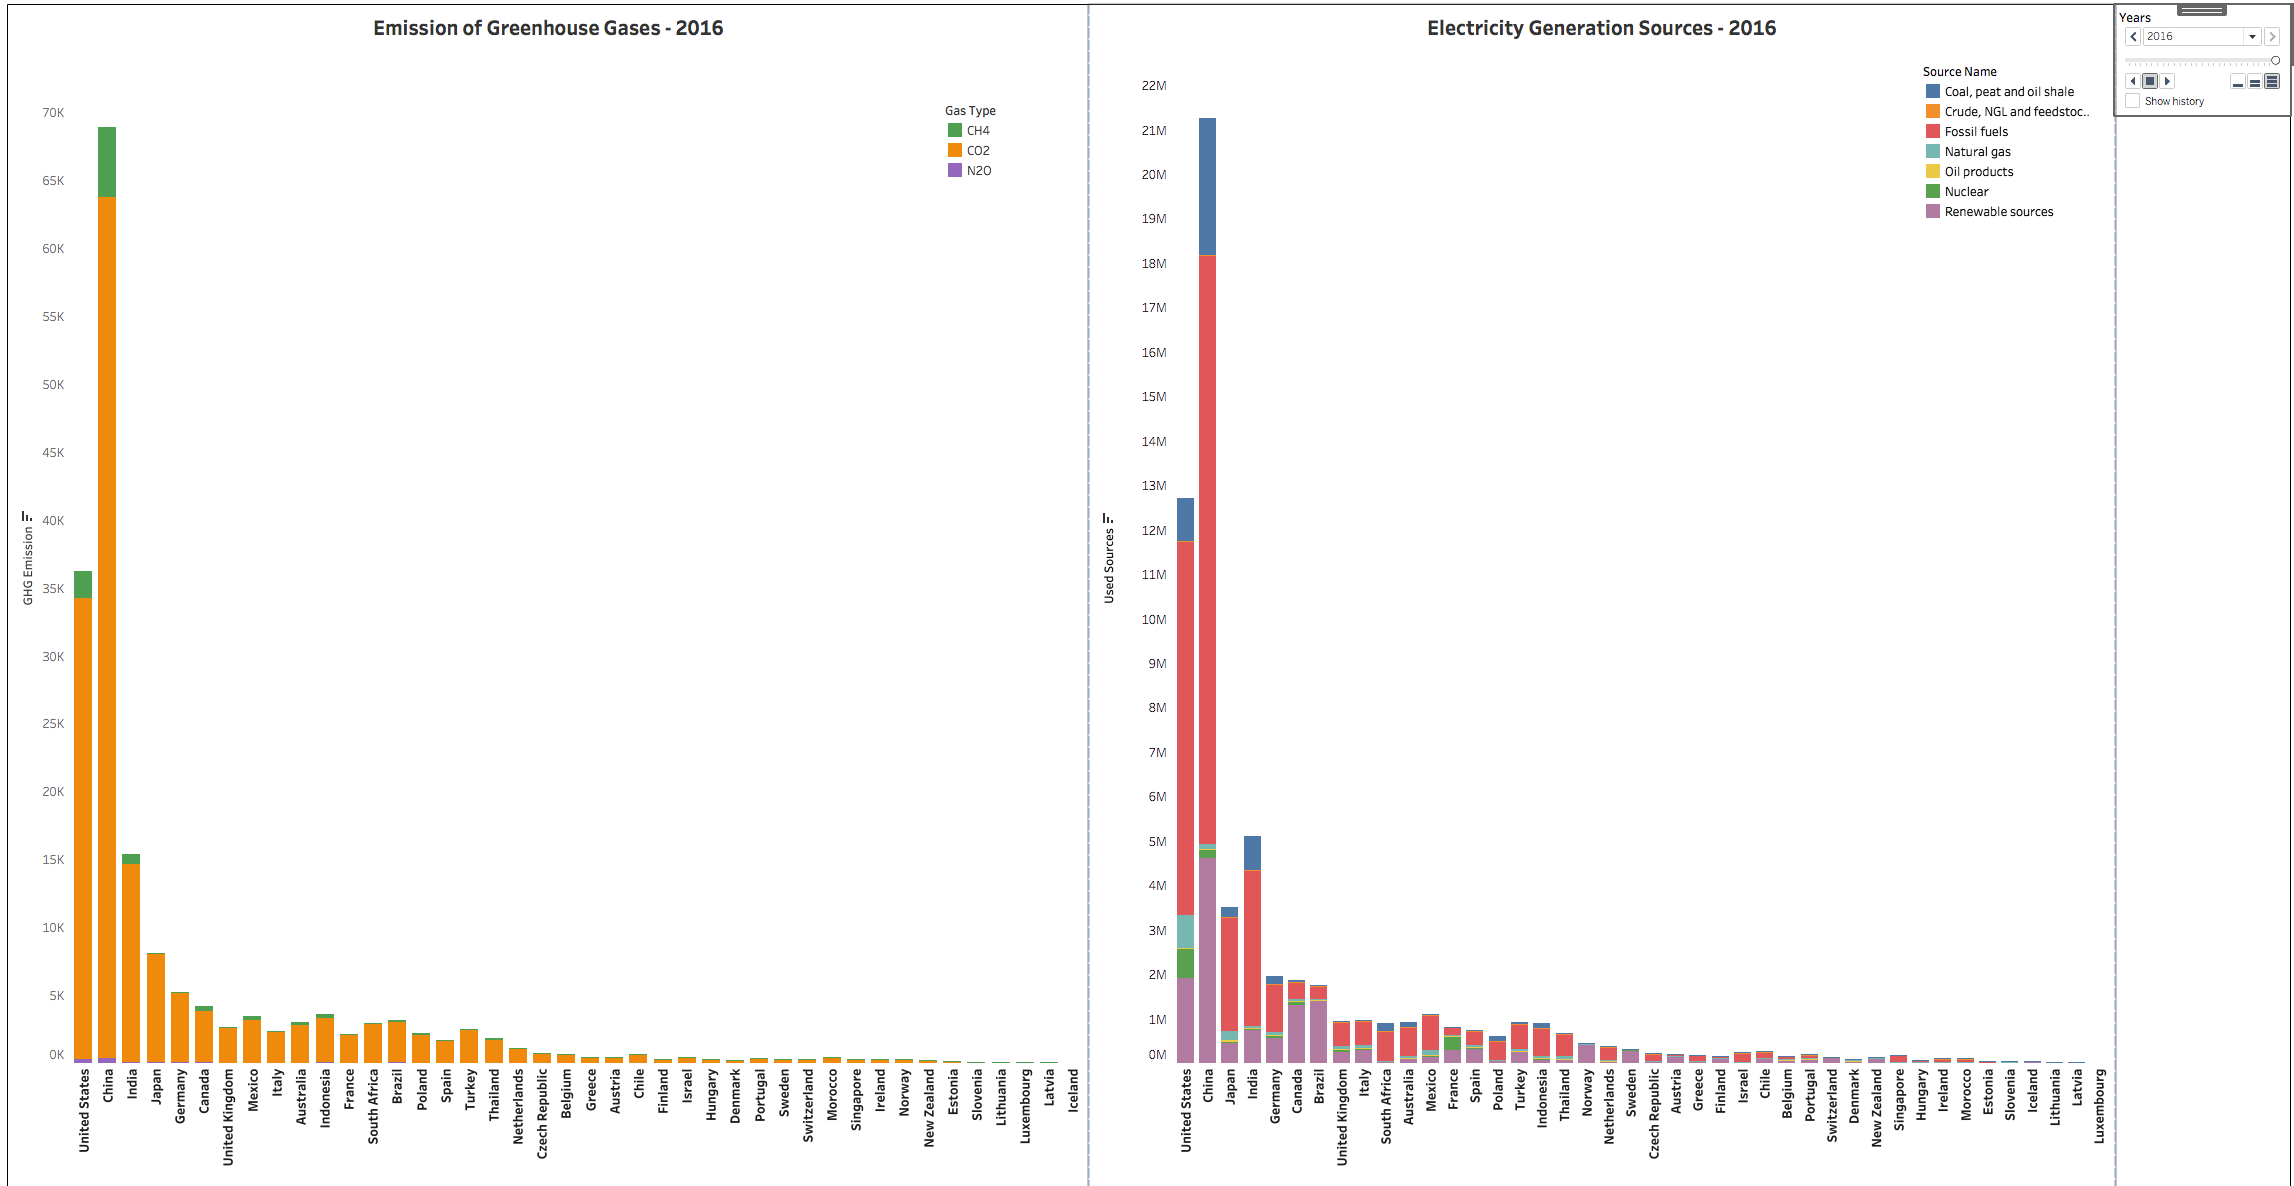

This screenshot's page, from the dashboard's own definition file:
{"tool":"tableau","page":{"name":"Dashboard 1","canvas":[1000,800],"ordinal":0},"visuals":[{"type":"worksheet","box":[0,0,1000,800]},{"type":"worksheet","param":"horz","box":[8,8,984,784]},{"type":"worksheet","box":[8,8,824,784]},{"type":"worksheet","title":"Electricity","mark":"Automatic","rows":["Electricity Generated (billion kWh)"],"box":[8,8,824,392]},{"type":"worksheet","param":"vert","box":[832,8,160,784]},{"type":"worksheet","title":"Electricity","mark":"Automatic","rows":["Electricity Generated (billion kWh)"],"box":[832,8,160,119]},{"type":"worksheet","title":"Electricity","mark":"Automatic","rows":["Electricity Generated (billion kWh)"],"param":"[federated.1yku6bv0drz433195bxn60iqwv90].[Energy Source (billion kWh) (group)]","box":[674,73,140,64]},{"type":"worksheet","title":"GHG","mark":"Automatic","rows":["GHG Emissions (MCO2e)"],"cols":["Country"],"box":[832,127,160,119]},{"type":"worksheet","title":"GHG","mark":"Automatic","rows":["GHG Emissions (MCO2e)"],"cols":["Country"],"box":[8,400,824,392]}]}

Visuals, with their boxes on the page's 1000x800 design canvas (x1, y1, x2, y2). These are canvas units, not pixel positions in the 2294x1186 screenshot, which may show the page scaled, cropped or inside an application window:
worksheet: x1=0 y1=0 x2=1000 y2=800
worksheet: x1=8 y1=8 x2=992 y2=792
worksheet: x1=8 y1=8 x2=832 y2=792
"Electricity" worksheet: x1=8 y1=8 x2=832 y2=400
worksheet: x1=832 y1=8 x2=992 y2=792
"Electricity" worksheet: x1=832 y1=8 x2=992 y2=127
"Electricity" worksheet: x1=674 y1=73 x2=814 y2=137
"GHG" worksheet: x1=832 y1=127 x2=992 y2=246
"GHG" worksheet: x1=8 y1=400 x2=832 y2=792
